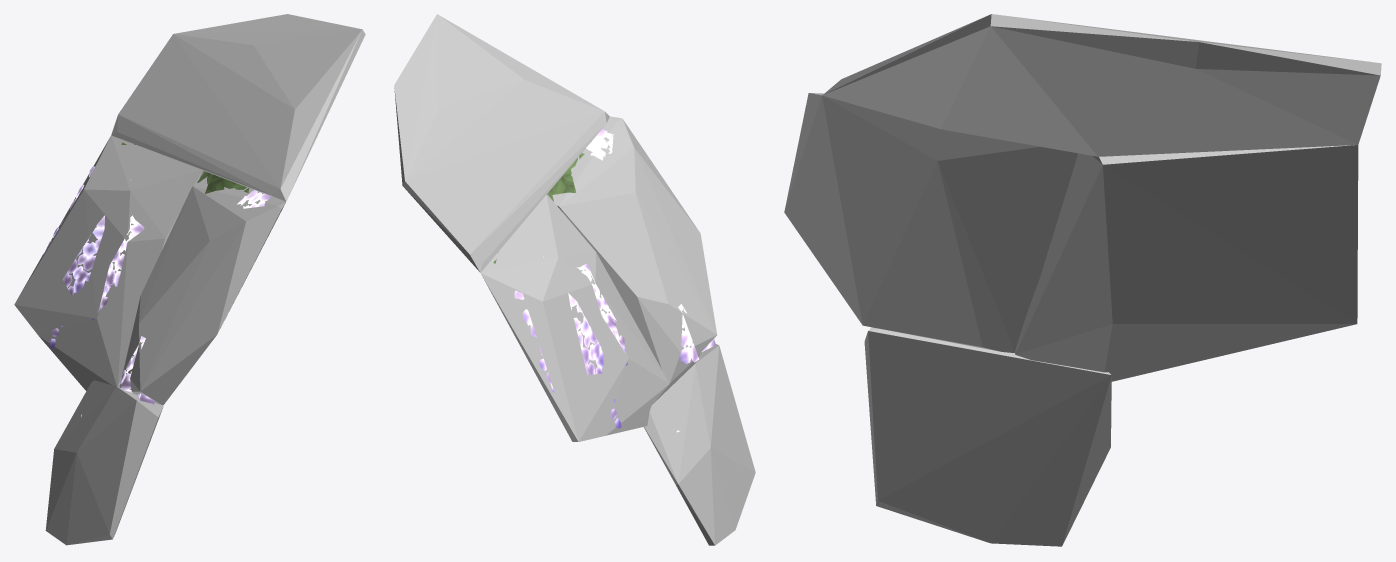
The model's file is SM_Env_Vines_Preset_Roof_Convex_03.fbx.
3 views of the same model, side by side, from view 1: azimuth 30°, elevation 25°; view 2: azimuth 150°, elevation 25°; view 3: azimuth 270°, elevation 25° (orthographic). The views are drawn at different scales.
Parts seen in each view (by area): view 1: SM_Env_Vines_Preset_Roof_Convex_03_ConvexHulls, SM_Env_Vines_Preset_Roof_Convex_03; view 2: SM_Env_Vines_Preset_Roof_Convex_03_ConvexHulls, SM_Env_Vines_Preset_Roof_Convex_03; view 3: SM_Env_Vines_Preset_Roof_Convex_03_ConvexHulls.
Part boxes in pixels (x1,y1,x2,y2): SM_Env_Vines_Preset_Roof_Convex_03_ConvexHulls: [14, 14, 365, 545]; SM_Env_Vines_Preset_Roof_Convex_03: [41, 142, 271, 417]; SM_Env_Vines_Preset_Roof_Convex_03_ConvexHulls: [394, 14, 755, 545]; SM_Env_Vines_Preset_Roof_Convex_03: [493, 129, 715, 432]; SM_Env_Vines_Preset_Roof_Convex_03_ConvexHulls: [784, 14, 1381, 546].
Size of the model in its own units: 179 by 176 by 255.
3 materials, 2 textured.
